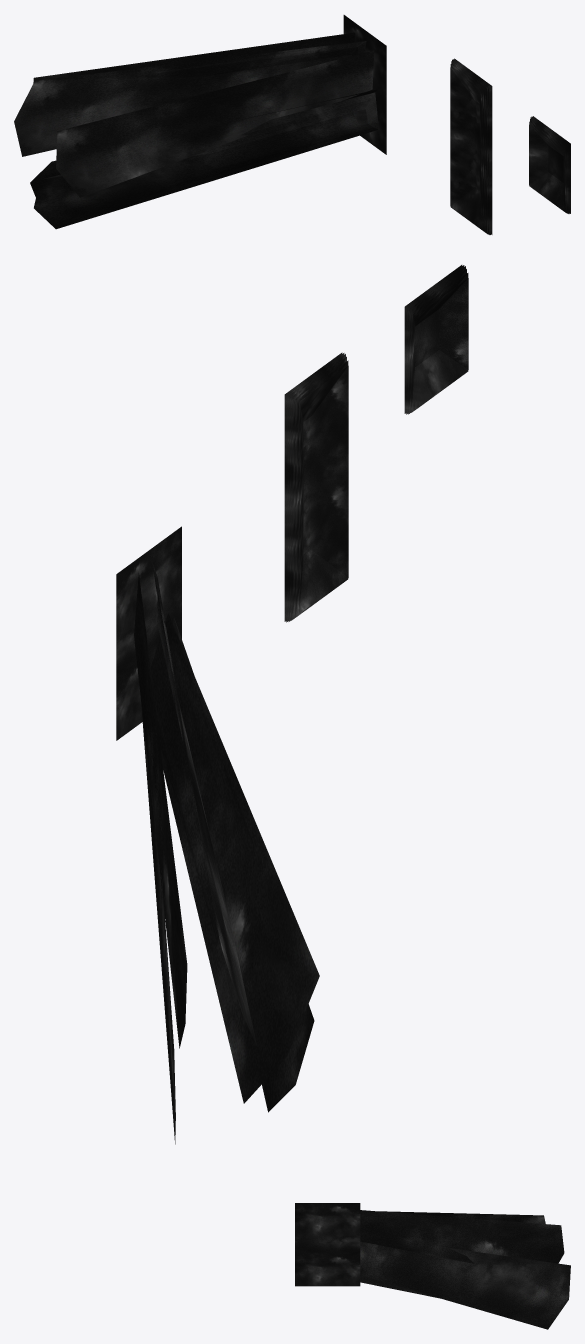
File: light_shafts.FBX
3 views of the same model, one above another, from view 1: azimuth 30°, elevation 25°; view 2: azimuth 150°, elevation 25°; view 3: azimuth 270°, elevation 25° (orthographic). The views are drawn at different scales.
Visible parts, largest first — view 1: Plane03, Plane01, Plane04; view 2: Plane03, Plane01, Plane04; view 3: Plane03.
Boxes of the visible parts, x1,y1,x2,y2 form: Plane03: [14, 15, 386, 229]; Plane01: [450, 58, 492, 234]; Plane04: [529, 116, 570, 213]; Plane03: [116, 526, 319, 1144]; Plane01: [284, 352, 348, 622]; Plane04: [404, 265, 468, 414]; Plane03: [295, 1203, 570, 1329].
Bounding box in the file's own units: 4745 × 5763 × 13527.
